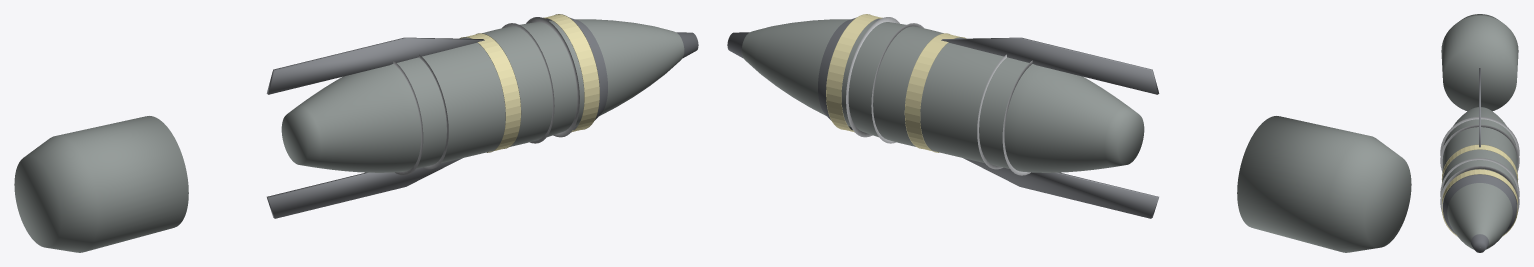
The model's file is US_SLBM_Trident_D5_LOD0.fbx.
3 views of the same model, side by side, from view 1: azimuth 30°, elevation 25°; view 2: azimuth 150°, elevation 25°; view 3: azimuth 270°, elevation 25° (orthographic). The views are drawn at different scales.
Parts seen in each view (by area): view 1: WPN_US_SLBM_Trident_D5_LOD0_Body, WPN_US_SLBM_Trident_D5_LOD0_Tail, WPN_US_SLBM_Trident_D5_LOD0_Detail, WPN_US_SLBM_Trident_D5_LOD0_Marking, WPN_US_SLBM_Trident_D5_LOD0_Nose; view 2: WPN_US_SLBM_Trident_D5_LOD0_Body, WPN_US_SLBM_Trident_D5_LOD0_Tail, WPN_US_SLBM_Trident_D5_LOD0_Detail, WPN_US_SLBM_Trident_D5_LOD0_Marking, WPN_US_SLBM_Trident_D5_LOD0_Nose; view 3: WPN_US_SLBM_Trident_D5_LOD0_Body, WPN_US_SLBM_Trident_D5_LOD0_Tail, WPN_US_SLBM_Trident_D5_LOD0_Detail, WPN_US_SLBM_Trident_D5_LOD0_Nose, WPN_US_SLBM_Trident_D5_LOD0_Marking.
Part boxes in pixels (x1,y1,x2,y2): WPN_US_SLBM_Trident_D5_LOD0_Body: [281, 19, 684, 172]; WPN_US_SLBM_Trident_D5_LOD0_Tail: [14, 116, 188, 252]; WPN_US_SLBM_Trident_D5_LOD0_Detail: [266, 17, 579, 218]; WPN_US_SLBM_Trident_D5_LOD0_Marking: [459, 14, 599, 152]; WPN_US_SLBM_Trident_D5_LOD0_Nose: [546, 17, 698, 130]; WPN_US_SLBM_Trident_D5_LOD0_Body: [741, 19, 1144, 172]; WPN_US_SLBM_Trident_D5_LOD0_Tail: [1237, 116, 1411, 252]; WPN_US_SLBM_Trident_D5_LOD0_Detail: [846, 17, 1159, 218]; WPN_US_SLBM_Trident_D5_LOD0_Marking: [826, 14, 966, 152]; WPN_US_SLBM_Trident_D5_LOD0_Nose: [727, 17, 879, 130]; WPN_US_SLBM_Trident_D5_LOD0_Body: [1442, 107, 1517, 249]; WPN_US_SLBM_Trident_D5_LOD0_Tail: [1441, 14, 1518, 111]; WPN_US_SLBM_Trident_D5_LOD0_Detail: [1440, 68, 1519, 211]; WPN_US_SLBM_Trident_D5_LOD0_Nose: [1443, 174, 1516, 252]; WPN_US_SLBM_Trident_D5_LOD0_Marking: [1441, 144, 1518, 236].
Bounding box in the file's own units: 13.6 × 2.22 × 2.93.
